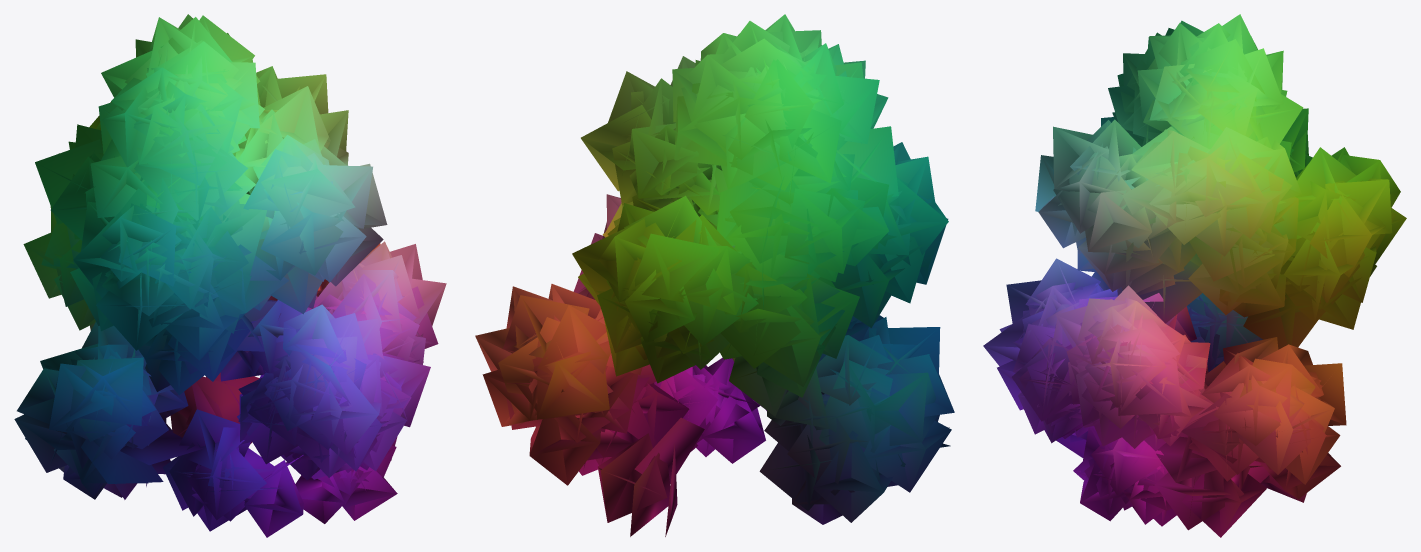
File: Forest_plant_tree_097_a.fbx
The picture shows the model from 3 angles, left to right: view 1: azimuth 30°, elevation 25°; view 2: azimuth 150°, elevation 25°; view 3: azimuth 270°, elevation 25°; orthographic projection. The views are drawn at different scales.
Parts seen in each view (by area): view 1: attribwrangle50; view 2: attribwrangle50; view 3: attribwrangle50.
Boxes of the visible parts, left/top/right/bottom form: attribwrangle50: left=14, top=14, right=446, bottom=537; attribwrangle50: left=475, top=14, right=954, bottom=536; attribwrangle50: left=983, top=14, right=1406, bottom=537.
Size of the model in its own units: 6282 by 7318 by 6210.
